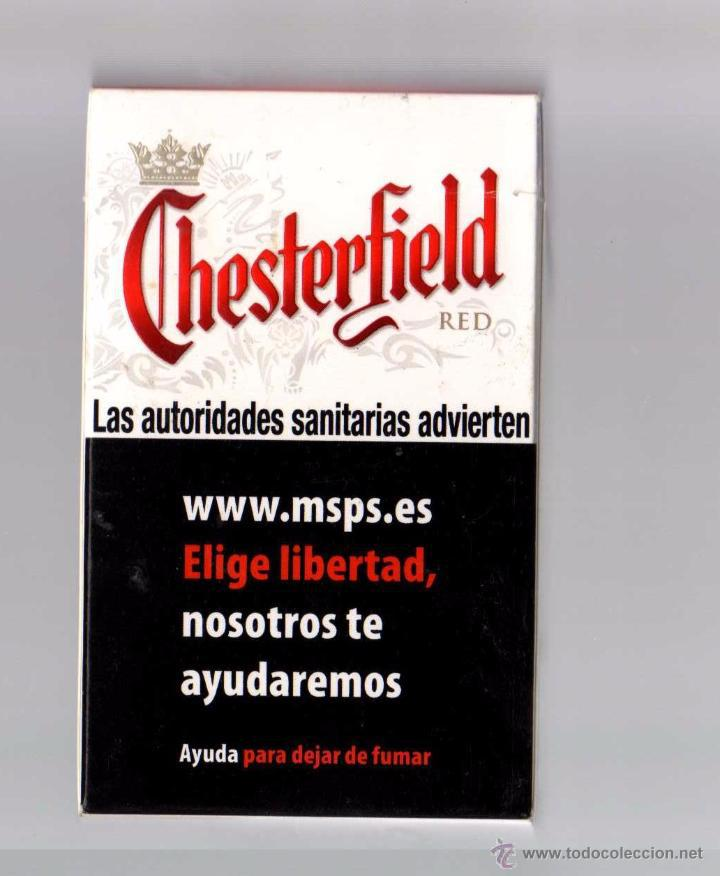chesterfield_red: (90, 87, 534, 819)
